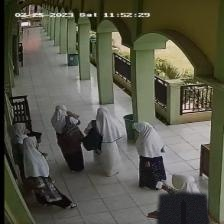Cadar_Niqab: (157, 172, 209, 224)
